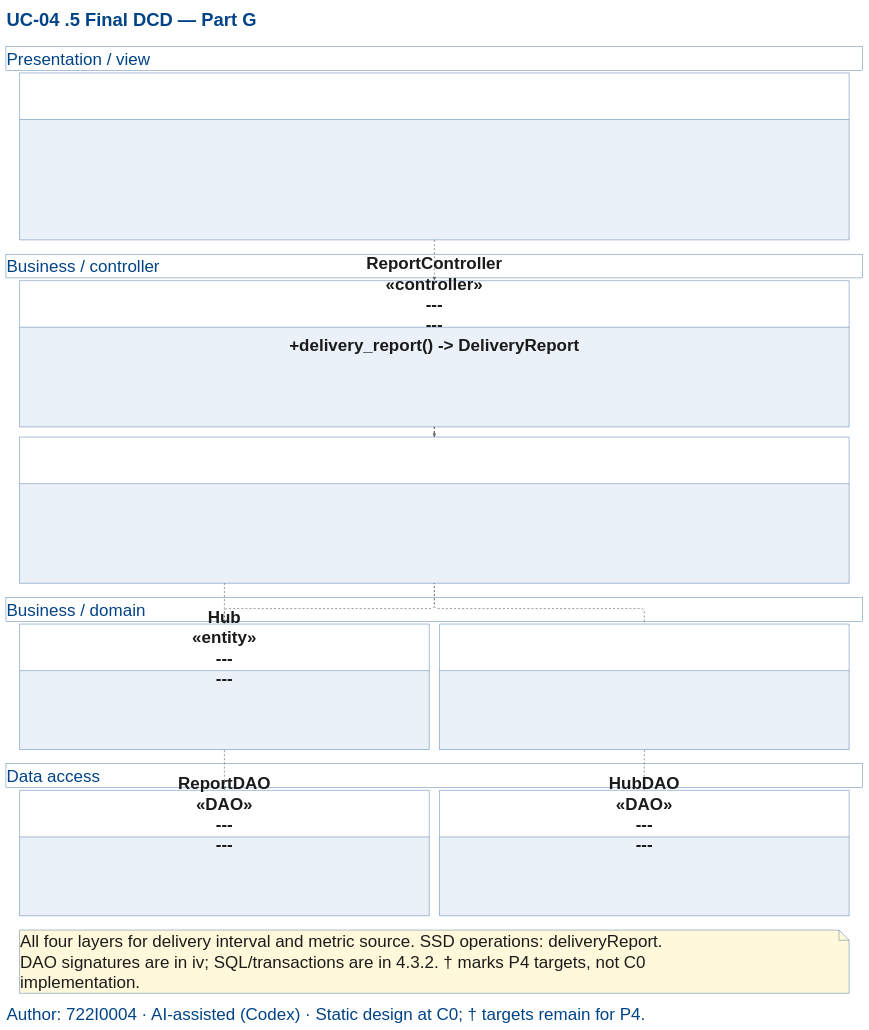
Image size: 869x1030. Some labels were removed from this diagram. Here are the shapes that lost their labels. From the top down, the centre of each, then its label:
At point (434, 156): "reports «view» --- --- +delivery() * -_filtered() *".
At point (434, 510): "controllers.report_controller «module» --- --- -_minutes() -> Optional[float]".
At point (644, 687): "DeliveryState «enumeration» --- ---".
